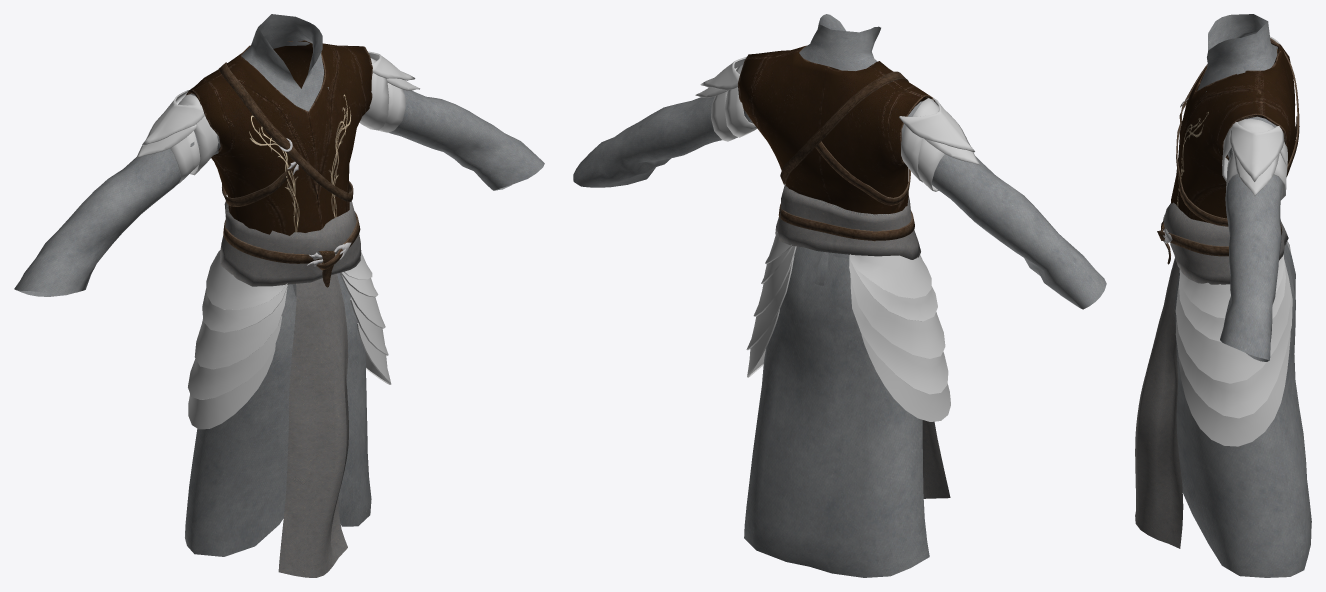
Rendered from rivendell_torso_light_light_tier4.fbx.
3 renders of one model, left to right at view 1: azimuth 30°, elevation 25°; view 2: azimuth 150°, elevation 25°; view 3: azimuth 270°, elevation 25°, orthographic.
Parts seen in each view (by area): view 1: rivendell_torso_light_light_tier4.0, rivendell_torso_light_light_tier4.2, rivendell_torso_light_light_tier4.3, rivendell_torso_light_light_tier4.1, rivendell_torso_light_light_tier4.4; view 2: rivendell_torso_light_light_tier4.0, rivendell_torso_light_light_tier4.3, rivendell_torso_light_light_tier4.1, rivendell_torso_light_light_tier4.2, rivendell_torso_light_light_tier4.4; view 3: rivendell_torso_light_light_tier4.0, rivendell_torso_light_light_tier4.2, rivendell_torso_light_light_tier4.1, rivendell_torso_light_light_tier4.3, rivendell_torso_light_light_tier4.4.
Boxes of the visible parts, x1,y1,x2,y2 form: rivendell_torso_light_light_tier4.0: (14,14,544,556); rivendell_torso_light_light_tier4.2: (219,62,361,577); rivendell_torso_light_light_tier4.3: (186,40,372,235); rivendell_torso_light_light_tier4.1: (188,250,391,429); rivendell_torso_light_light_tier4.4: (136,51,419,183); rivendell_torso_light_light_tier4.0: (573,14,1106,577); rivendell_torso_light_light_tier4.3: (738,45,935,241); rivendell_torso_light_light_tier4.1: (746,232,950,421); rivendell_torso_light_light_tier4.2: (775,71,950,498); rivendell_torso_light_light_tier4.4: (695,56,979,191); rivendell_torso_light_light_tier4.0: (1175,14,1311,577); rivendell_torso_light_light_tier4.2: (1135,38,1299,548); rivendell_torso_light_light_tier4.1: (1175,241,1292,446); rivendell_torso_light_light_tier4.3: (1171,40,1295,222); rivendell_torso_light_light_tier4.4: (1222,36,1287,199).
Size of the model in its own units: 1.52 by 0.4435 by 1.45.
